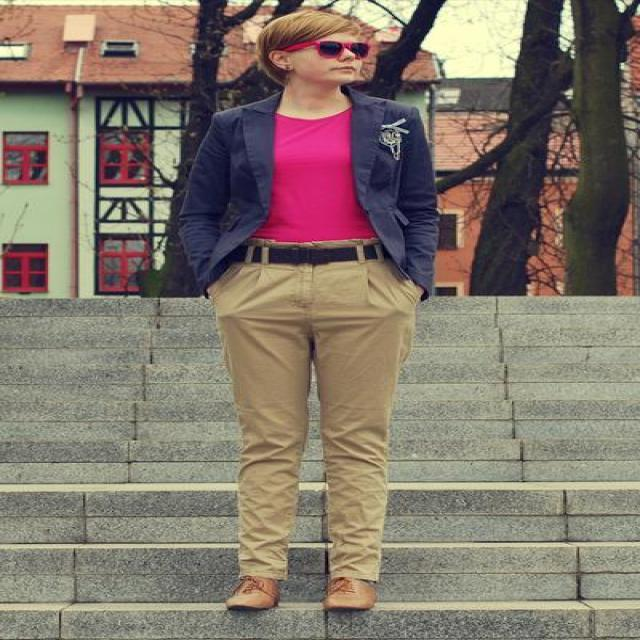jacket: (150, 96, 456, 301)
pants: (179, 252, 421, 584)
shirt: (256, 115, 373, 242)
shoe: (211, 568, 381, 610)
sunglass: (326, 41, 384, 78)
